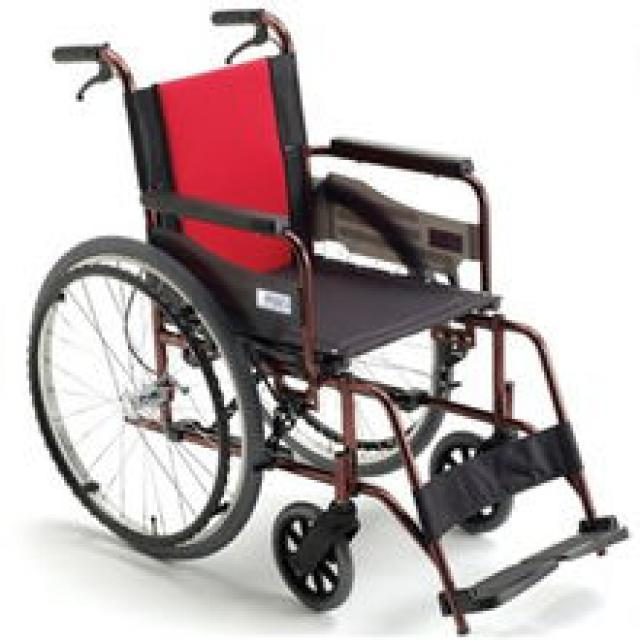wheelchair: (15, 2, 638, 634)
